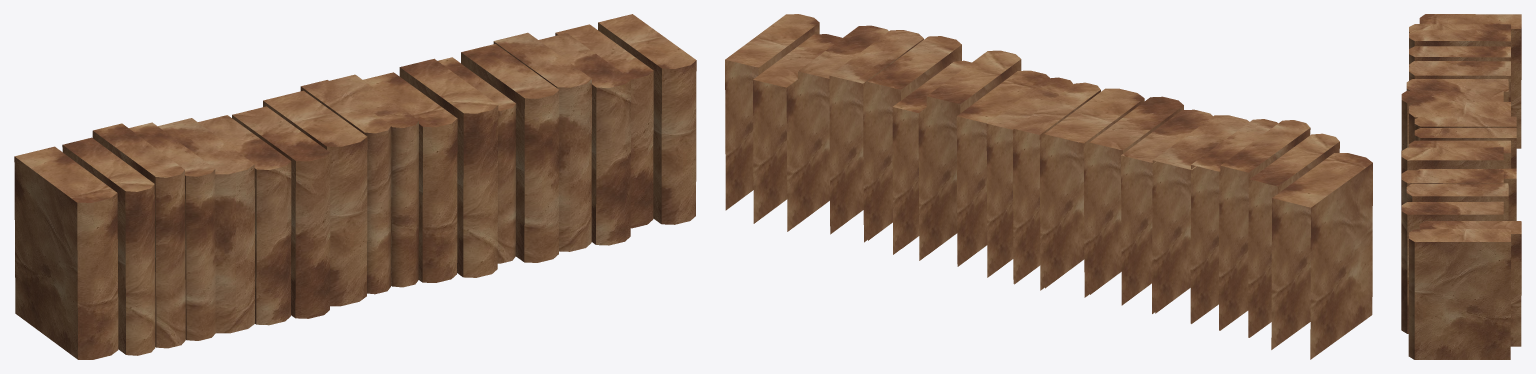
The model's file is tr_books_shelf_2.glb.
The picture shows the model from 3 angles, left to right: view 1: azimuth 30°, elevation 25°; view 2: azimuth 150°, elevation 25°; view 3: azimuth 270°, elevation 25°; orthographic projection. The views are drawn at different scales.
Visible parts, largest first — view 1: model; view 2: model; view 3: model.
Part boxes in pixels (bbox=[...]): model: bbox=[14, 14, 696, 359]; model: bbox=[725, 14, 1372, 359]; model: bbox=[1401, 14, 1521, 359].
Size of the model in its own units: 1.1 by 0.2949 by 0.2475.
1 material, 1 textured.
